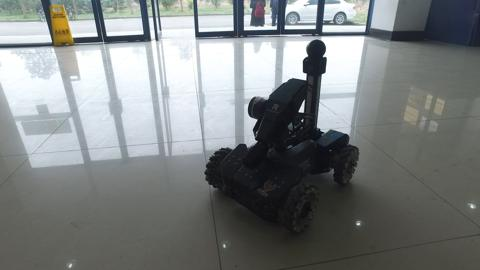chariot: (202, 38, 361, 235), (270, 1, 359, 26)
